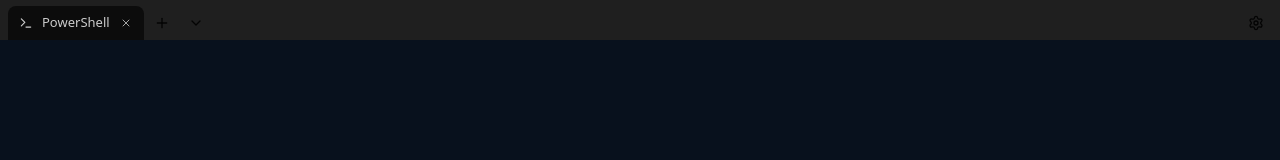
Test: the new tab menu › closes when the pointer goes down outside it
The image size is (1280, 160).
Click the button named "New tab menu" at (196, 23), box [180,8,212,38]
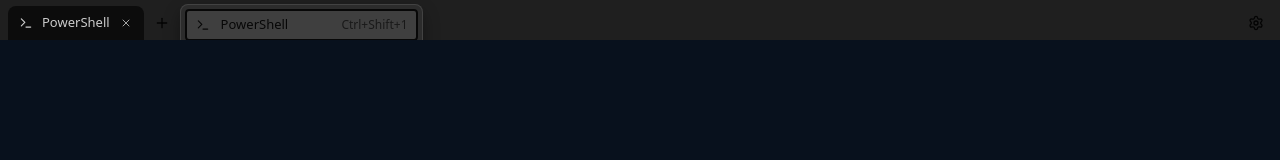
Press the mouse on the element that starts with "PowerShell" at (640, 20), box [0,0,1279,40]
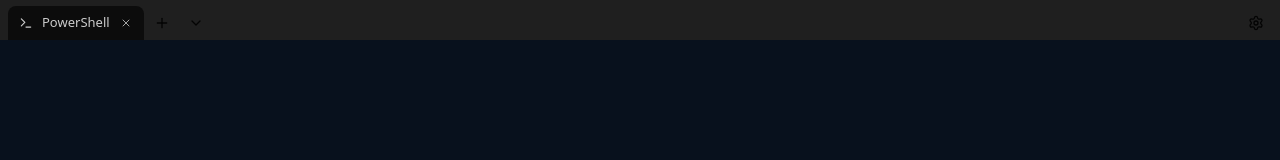
Now the menu is gone
